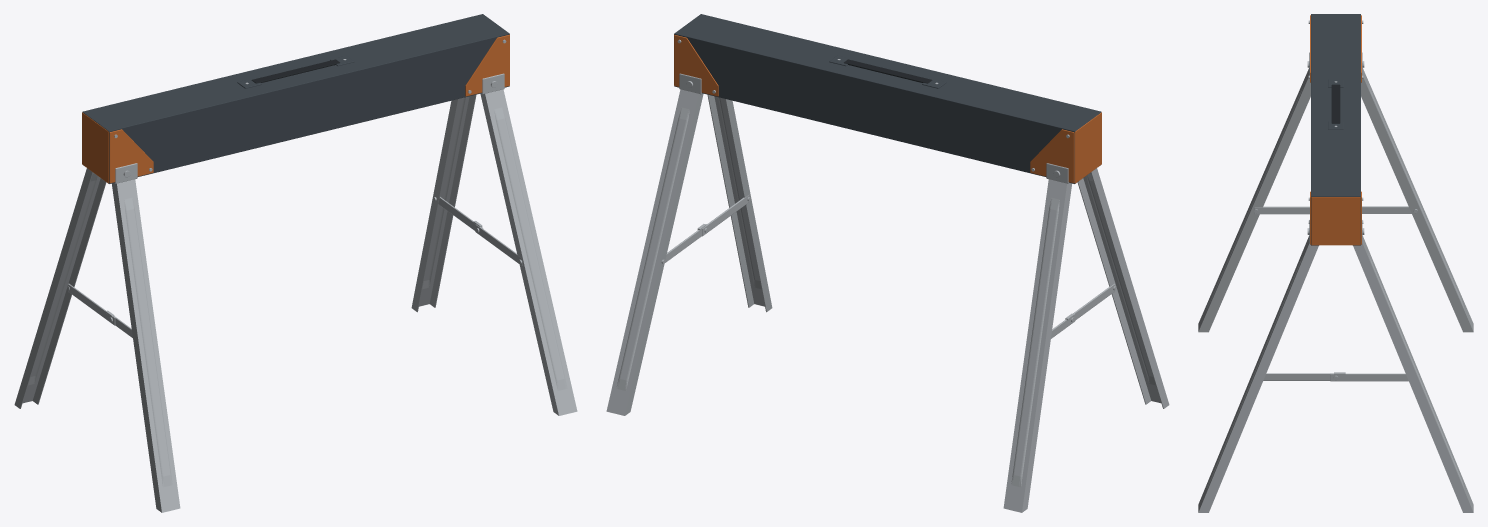
3 renders of one model, left to right at view 1: azimuth 30°, elevation 25°; view 2: azimuth 150°, elevation 25°; view 3: azimuth 270°, elevation 25°, orthographic. The views are drawn at different scales.
Parts seen in each view (by area): view 1: Inverted_U_beam_with_lower_returns, Left_front_stamped_U_channel_leg, Right_front_stamped_U_channel_leg, Left_rear_stamped_U_channel_leg, Right_rear_stamped_U_channel_leg, Left_beam_end_closure, Right_front_sloped_hinge_cheek, Left_front_sloped_hinge_cheek; view 2: Inverted_U_beam_with_lower_returns, Left_rear_stamped_U_channel_leg, Right_rear_stamped_U_channel_leg, Left_front_stamped_U_channel_leg, Right_front_stamped_U_channel_leg, Left_beam_end_closure, Right_rear_sloped_hinge_cheek, Left_rear_sloped_hinge_cheek; view 3: Inverted_U_beam_with_lower_returns, Right_front_stamped_U_channel_leg, Right_rear_stamped_U_channel_leg, Left_rear_stamped_U_channel_leg, Left_front_stamped_U_channel_leg, Right_beam_end_closure, Right_rear_spreader_leaf, Right_front_spreader_leaf, Left_front_spreader_leaf, Low_profile_carry_strap, Left_rear_spreader_leaf.
Boxes of the visible parts, x1,y1,x2,y2 form: Inverted_U_beam_with_lower_returns: (82, 14, 509, 183); Left_front_stamped_U_channel_leg: (112, 179, 180, 512); Right_front_stamped_U_channel_leg: (480, 89, 577, 415); Left_rear_stamped_U_channel_leg: (14, 168, 106, 408); Right_rear_stamped_U_channel_leg: (411, 94, 476, 312); Left_beam_end_closure: (82, 112, 108, 183); Right_front_sloped_hinge_cheek: (465, 35, 509, 96); Left_front_sloped_hinge_cheek: (109, 129, 153, 183); Inverted_U_beam_with_lower_returns: (674, 14, 1101, 183); Left_rear_stamped_U_channel_leg: (1003, 179, 1071, 512); Right_rear_stamped_U_channel_leg: (606, 89, 703, 415); Left_front_stamped_U_channel_leg: (1077, 168, 1169, 408); Right_front_stamped_U_channel_leg: (707, 94, 772, 312); Left_beam_end_closure: (1075, 112, 1101, 183); Right_rear_sloped_hinge_cheek: (674, 35, 718, 96); Left_rear_sloped_hinge_cheek: (1030, 129, 1074, 183); Inverted_U_beam_with_lower_returns: (1311, 14, 1360, 245); Right_front_stamped_U_channel_leg: (1198, 236, 1318, 512); Right_rear_stamped_U_channel_leg: (1353, 236, 1473, 512); Left_rear_stamped_U_channel_leg: (1361, 68, 1473, 332); Left_front_stamped_U_channel_leg: (1198, 68, 1310, 332); Right_beam_end_closure: (1311, 197, 1360, 245); Right_rear_spreader_leaf: (1330, 373, 1408, 381); Right_front_spreader_leaf: (1263, 373, 1333, 380); Left_front_spreader_leaf: (1254, 206, 1309, 214); Low_profile_carry_strap: (1331, 84, 1340, 123); Left_rear_spreader_leaf: (1362, 206, 1411, 213).
Size of the model in its own units: 0.935 by 0.7249 by 0.5751.
